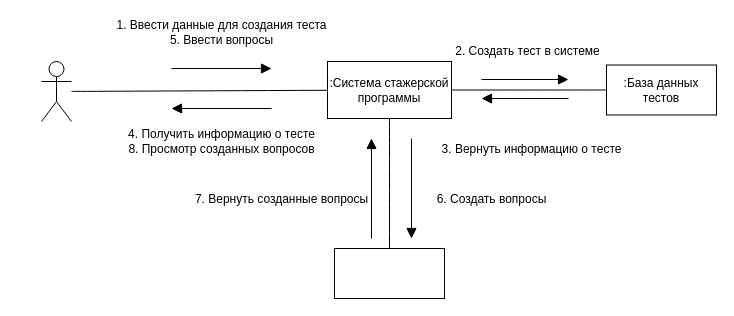
The diagram is 734 pixels wide and 316 high, and some of its shapes have lost their labels. The shapes that lost their labels are listed below. From the top down, each one's centre as x and y in pixels, then its label:
At (x=56, y=91): "Пользователь (куратор)".
At (x=389, y=273): ":База данных вопросов".
